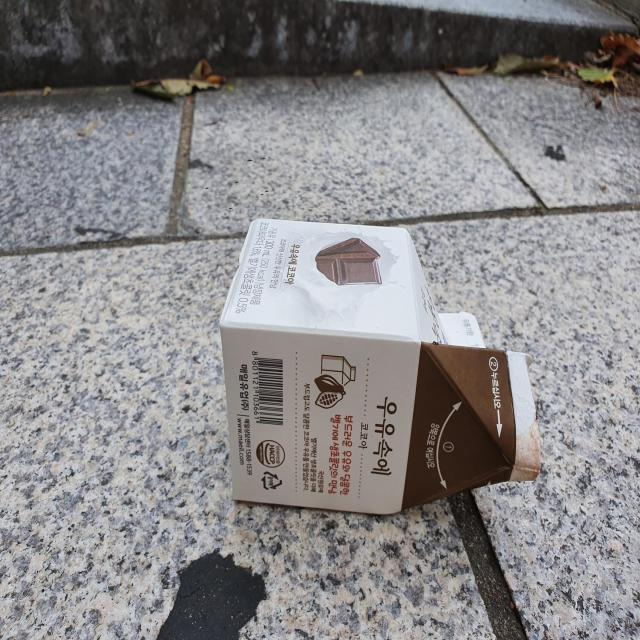paperpack: (220, 218, 541, 514)
